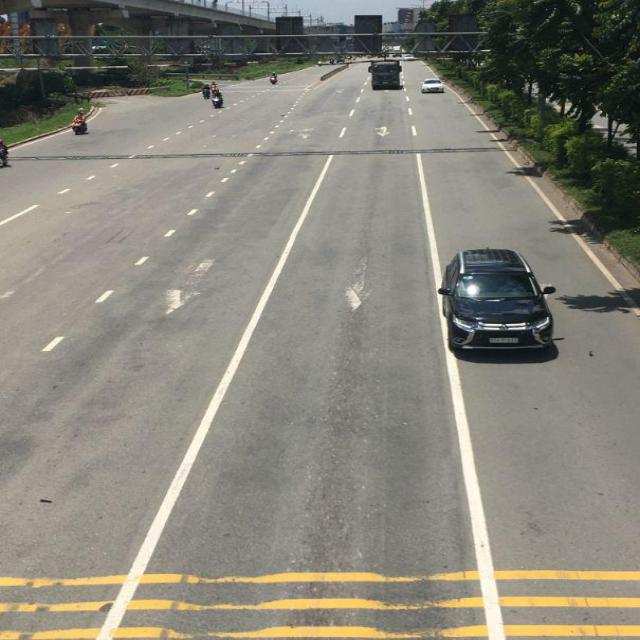car: (442, 244, 560, 359), (422, 78, 445, 95)
motorcycle: (0, 140, 10, 170), (212, 91, 224, 109)
truck: (370, 60, 402, 90)
